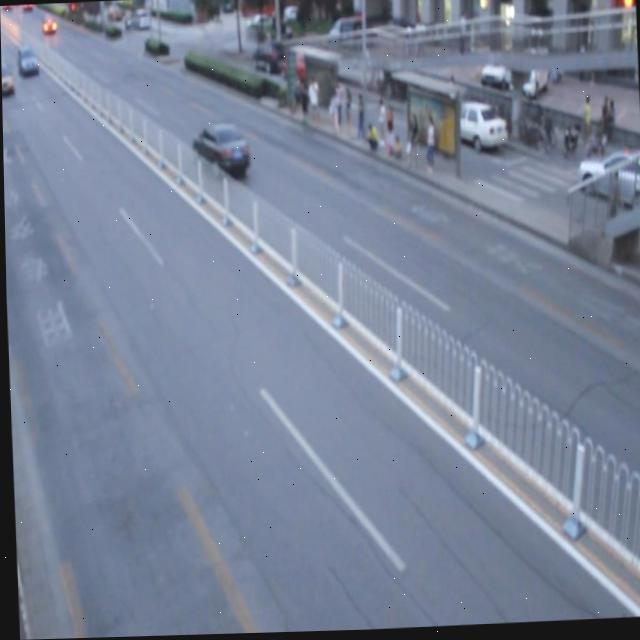car: (190, 124, 250, 182)
